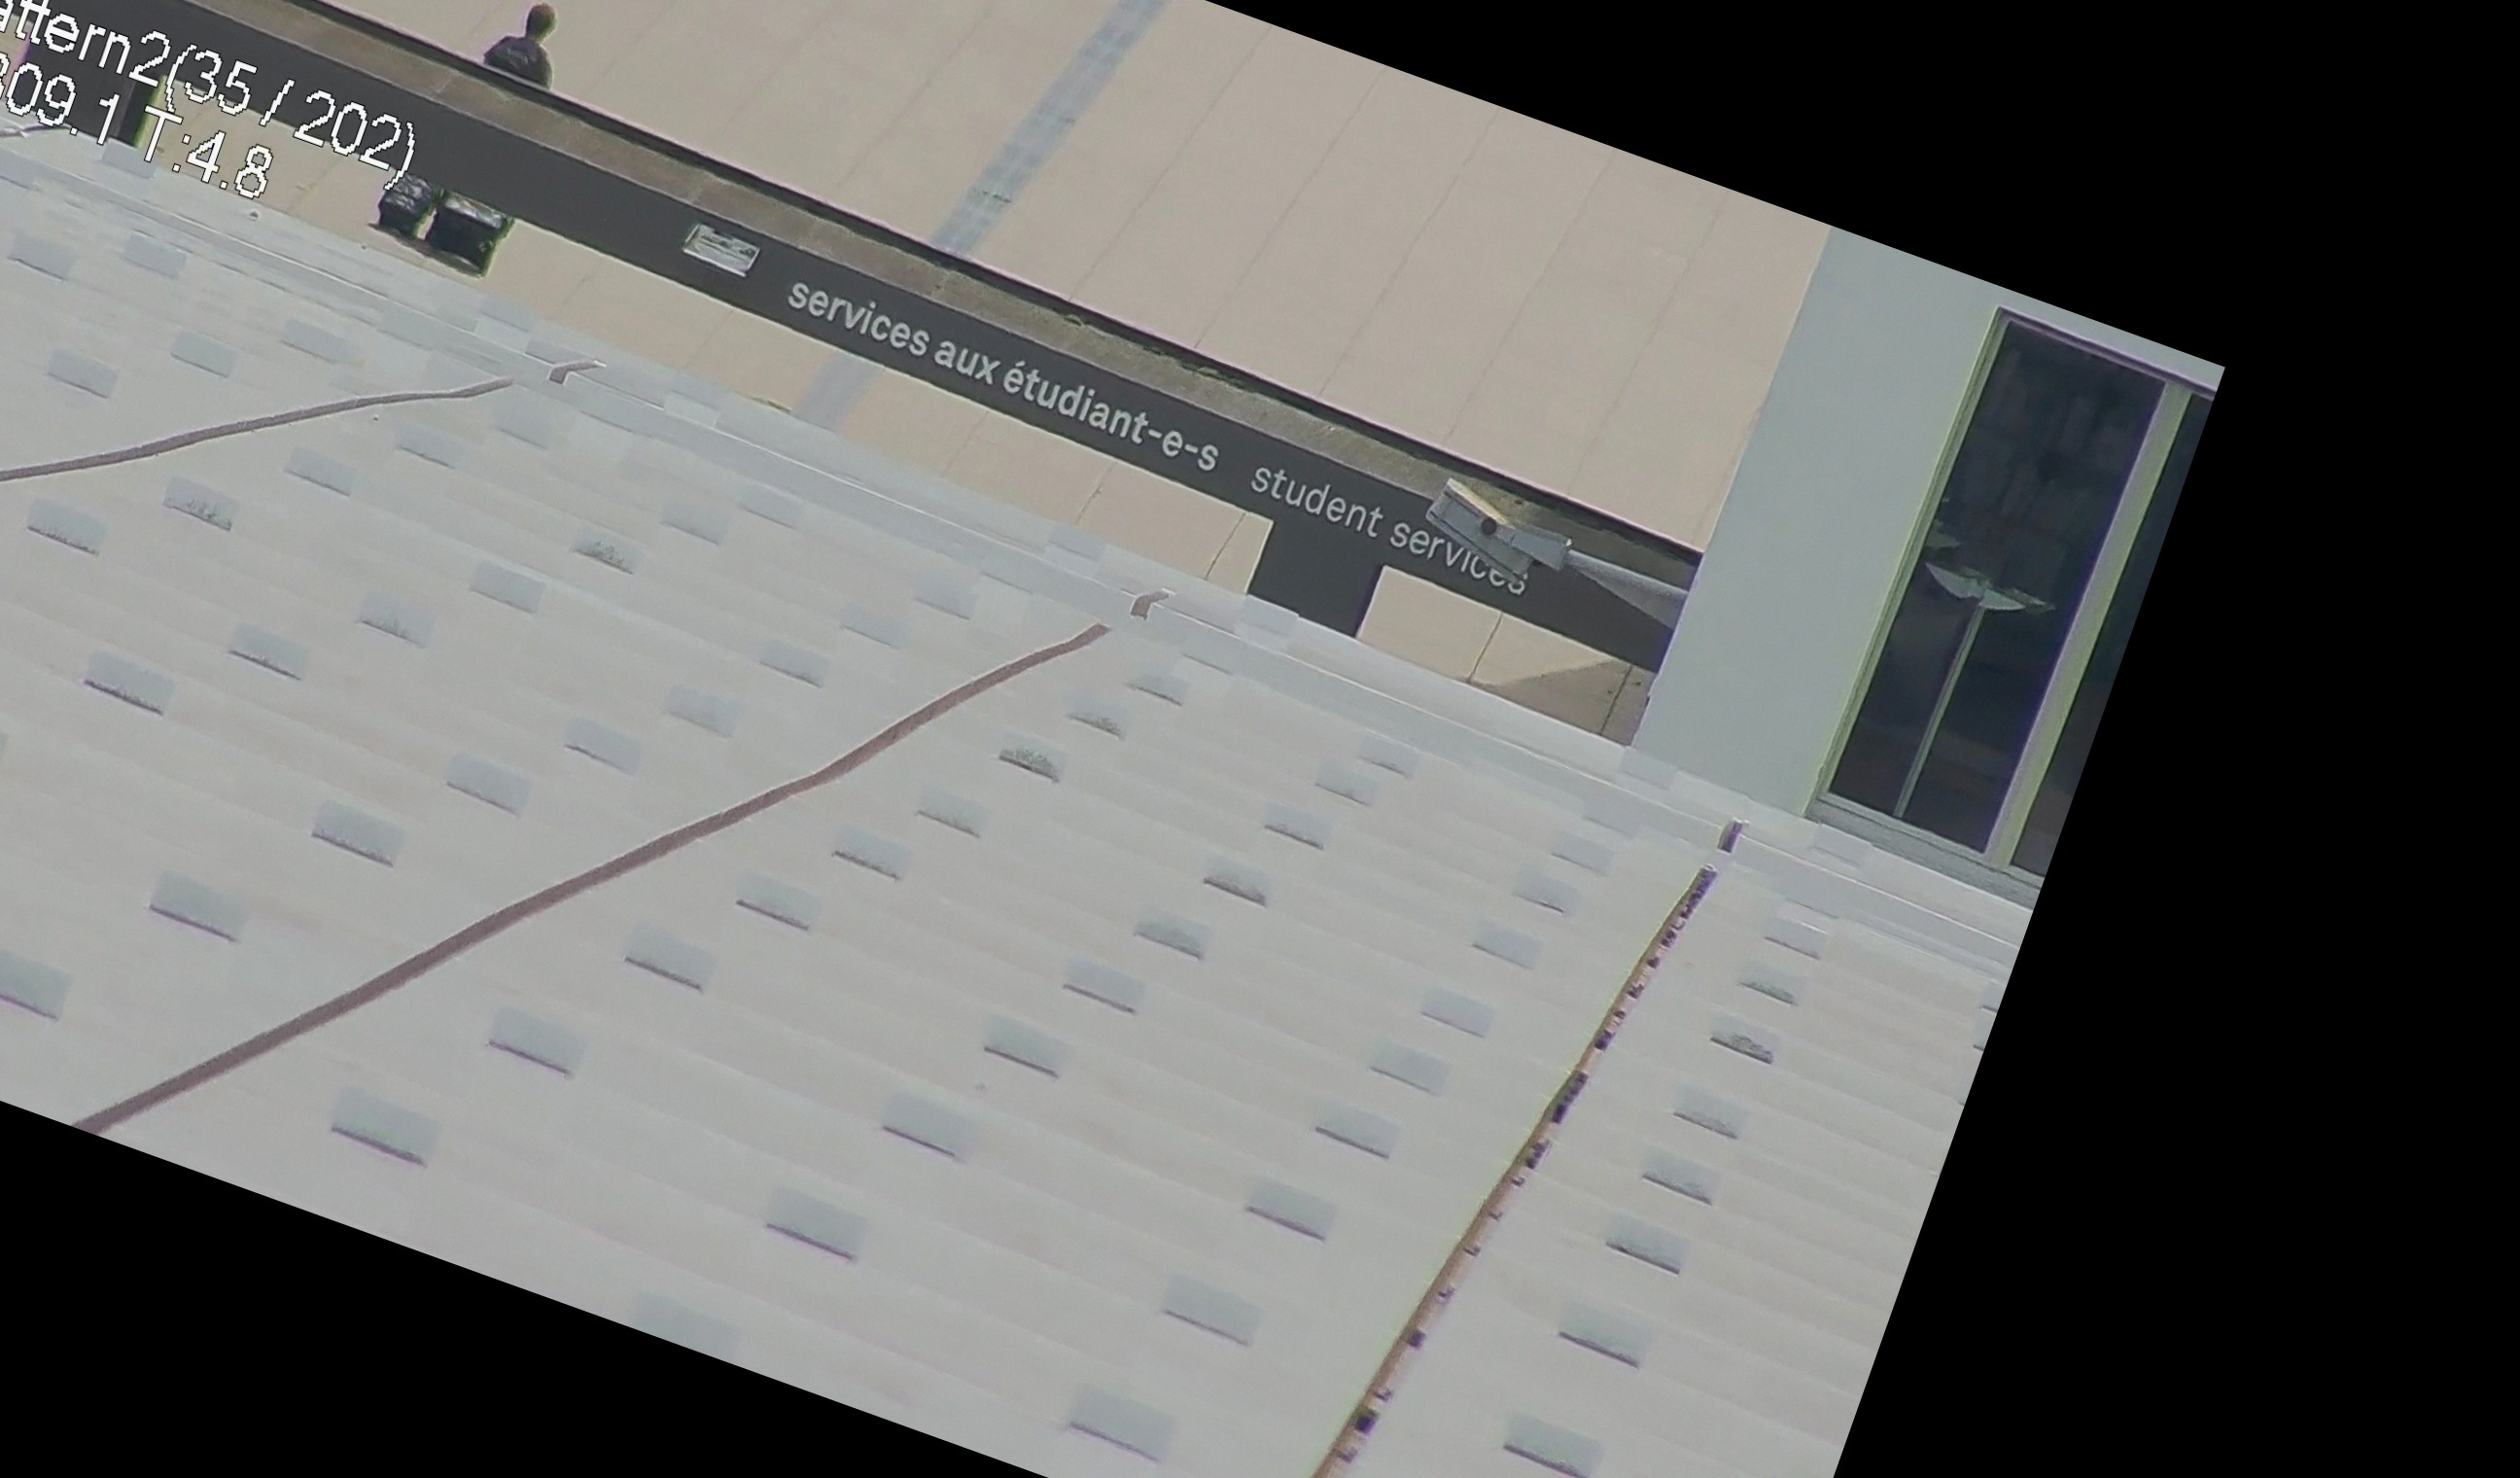Other: (461, 0, 568, 99)
